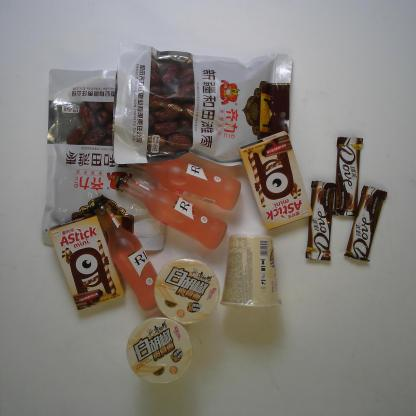Alcohol: (113, 170, 230, 252), (89, 196, 168, 314), (113, 150, 244, 213)
Chocolate: (342, 183, 390, 263), (303, 180, 339, 264), (331, 134, 365, 219)
Dessert: (45, 210, 128, 314), (235, 128, 317, 233)
Dried Food: (106, 35, 298, 174), (38, 62, 169, 255)
Instant Noodles: (218, 232, 288, 313), (152, 256, 222, 328), (124, 316, 195, 386)
